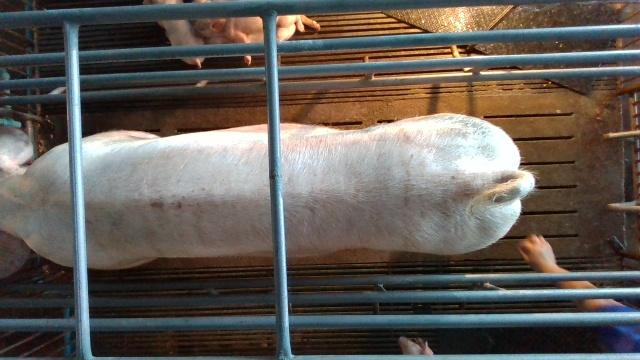piglet: (194, 15, 320, 64), (143, 0, 205, 68)
sow-stand-feed: (0, 112, 536, 278)
